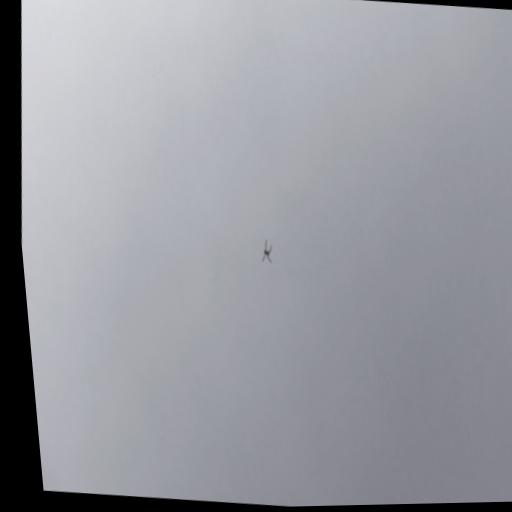drones: (259, 238, 276, 265)
